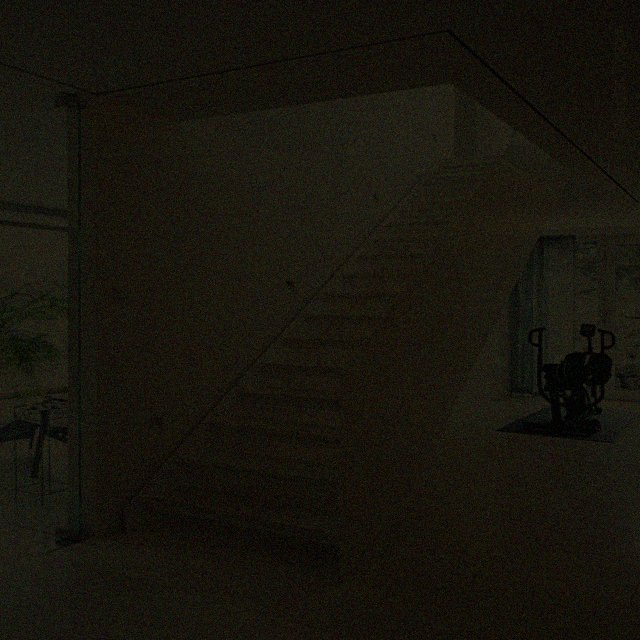stair: (125, 136, 568, 577)
